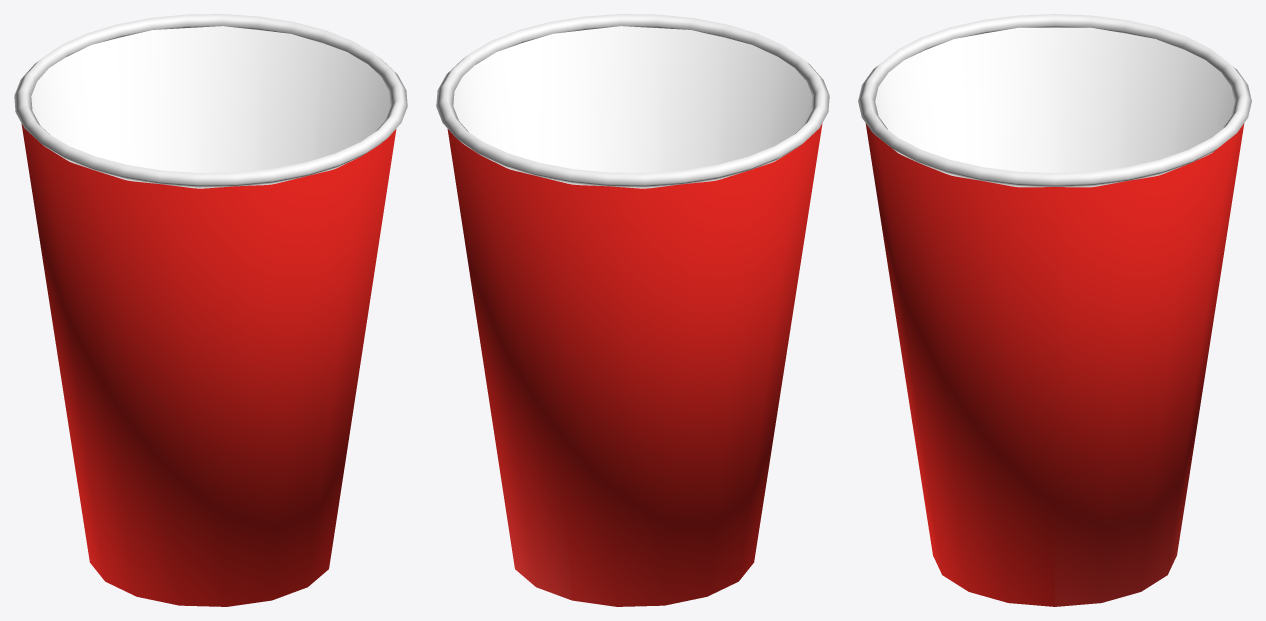
Rendered from red_cup.glb.
3 views of the same model, side by side, from view 1: azimuth 30°, elevation 25°; view 2: azimuth 150°, elevation 25°; view 3: azimuth 270°, elevation 25° (orthographic).
Parts seen in each view (by area): view 1: Cup, Lip; view 2: Cup, Lip; view 3: Cup, Lip.
Boxes of the visible parts, bbox=[...] form: Cup: bbox=[21, 26, 396, 606]; Lip: bbox=[14, 14, 407, 188]; Cup: bbox=[447, 26, 822, 606]; Lip: bbox=[436, 14, 829, 188]; Cup: bbox=[865, 27, 1244, 606]; Lip: bbox=[858, 14, 1251, 187].
Bounding box in the file's own units: 0.092 × 0.119 × 0.092.
Materials: 2 (1 with a texture image).
